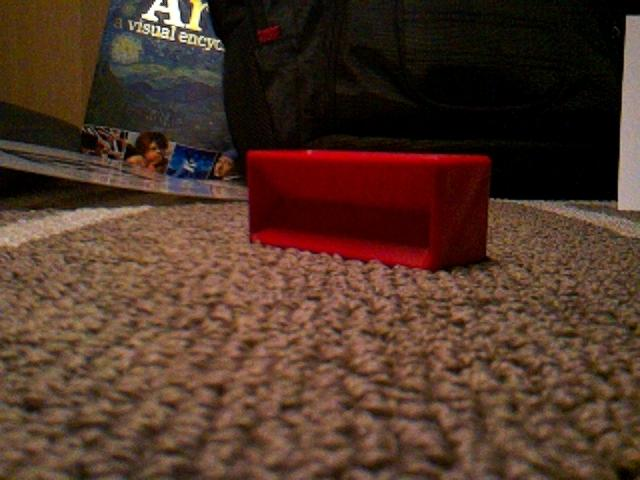red: (245, 147, 493, 272)
